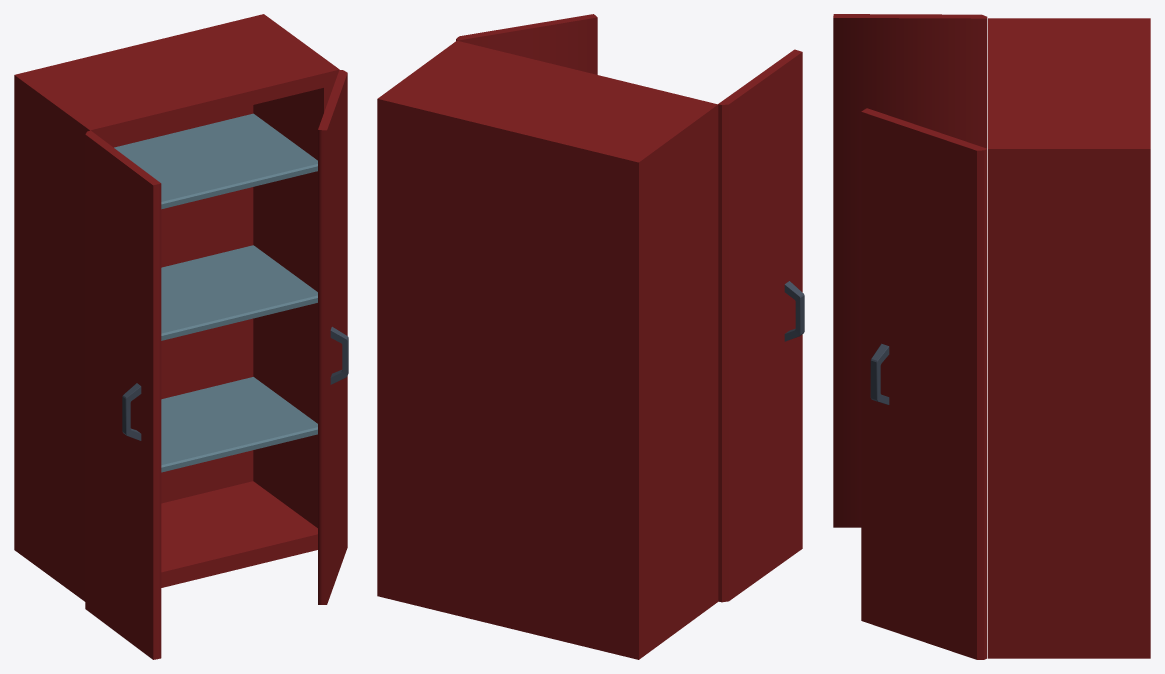
The model's file is Prop_Closet_Open.fbx.
3 renders of one model, left to right at view 1: azimuth 30°, elevation 25°; view 2: azimuth 150°, elevation 25°; view 3: azimuth 270°, elevation 25°, orthographic. The views are drawn at different scales.
Parts seen in each view (by area): view 1: Prop_Closet_Open; view 2: Prop_Closet_Open; view 3: Prop_Closet_Open.
Boxes of the visible parts, bbox=[...] form: Prop_Closet_Open: bbox=[14, 14, 348, 659]; Prop_Closet_Open: bbox=[377, 14, 804, 659]; Prop_Closet_Open: bbox=[833, 14, 1150, 659].
Bounding box in the file's own units: 136 × 147 × 241.
